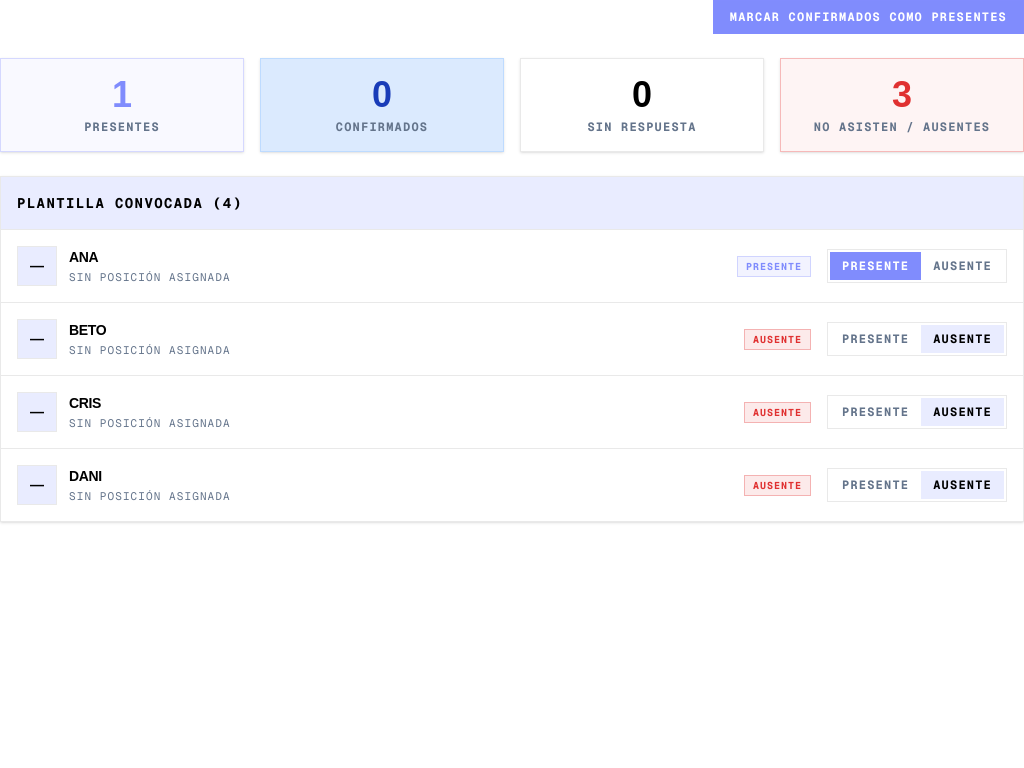
Test case: AttendanceBoard — marcar confirmados como presentes › evento terminado, 1 presente y 3 confirmados: tras la acción 4 Presente y 0 Ausente
Click the button "Marcar confirmados como presentes" at [868, 17], box [713, 0, 1023, 34]
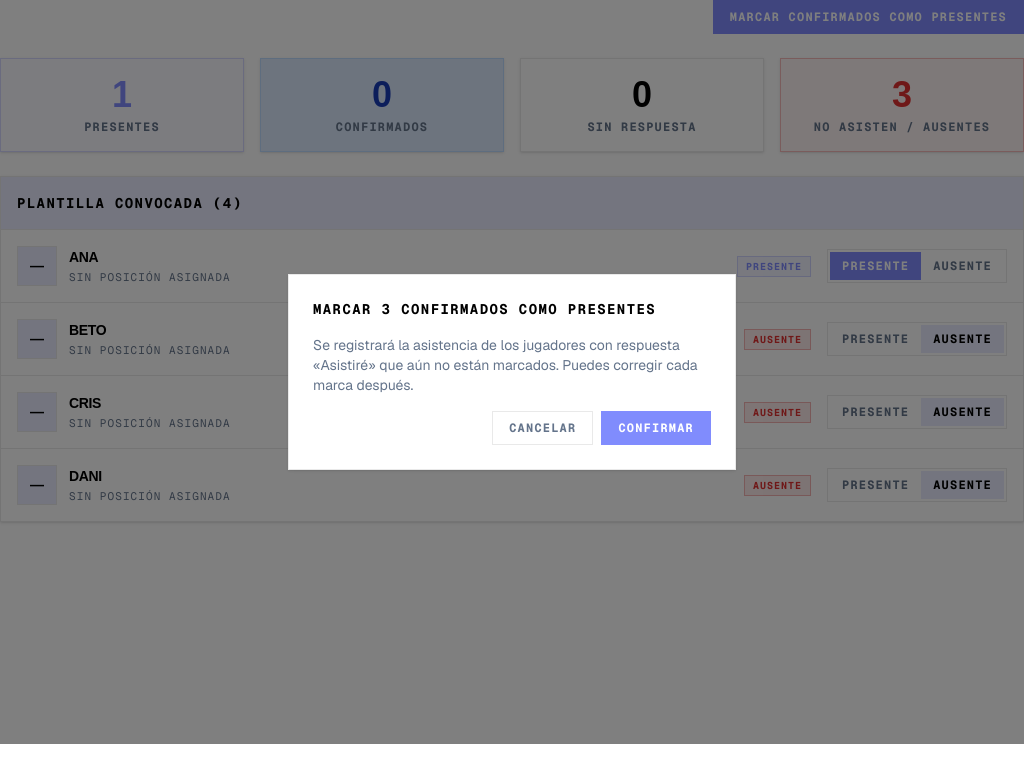
Expected: the dialog shows "Marcar 3 confirmados como presentes", [288, 274, 736, 470]
Click the button "Confirmar" at [656, 428], box [601, 411, 711, 445]
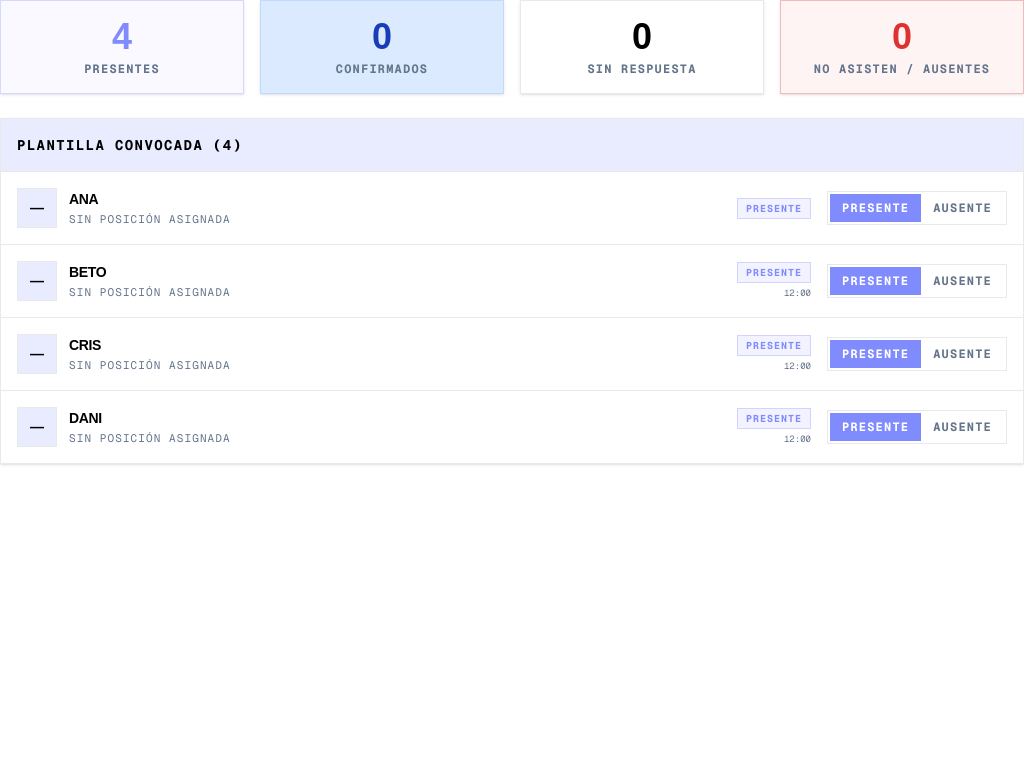
Expected: the button "Marcar confirmados como presentes" is gone
